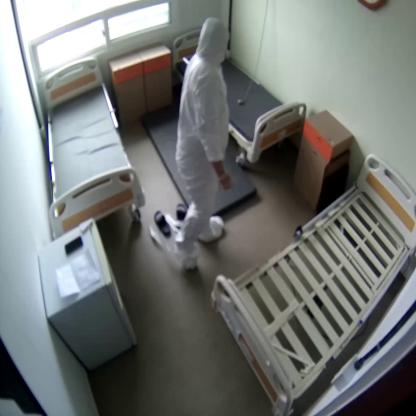Person: (173, 16, 233, 269)
